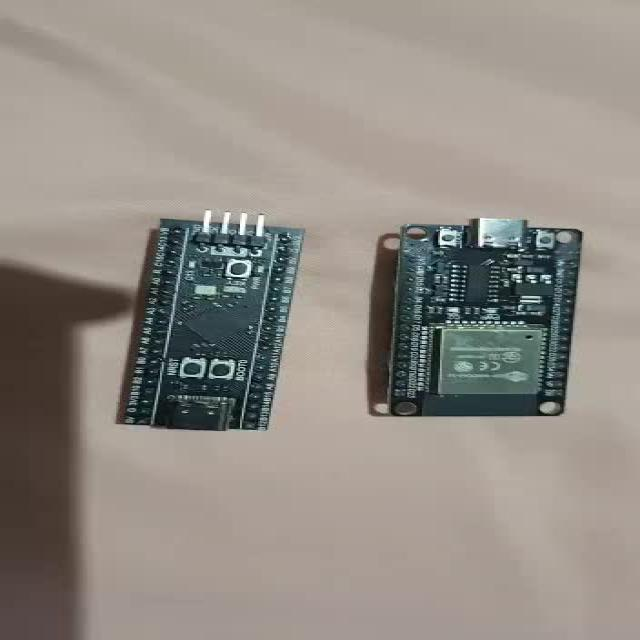ESP32: (386, 219, 582, 417)
STM32: (119, 212, 303, 432)
